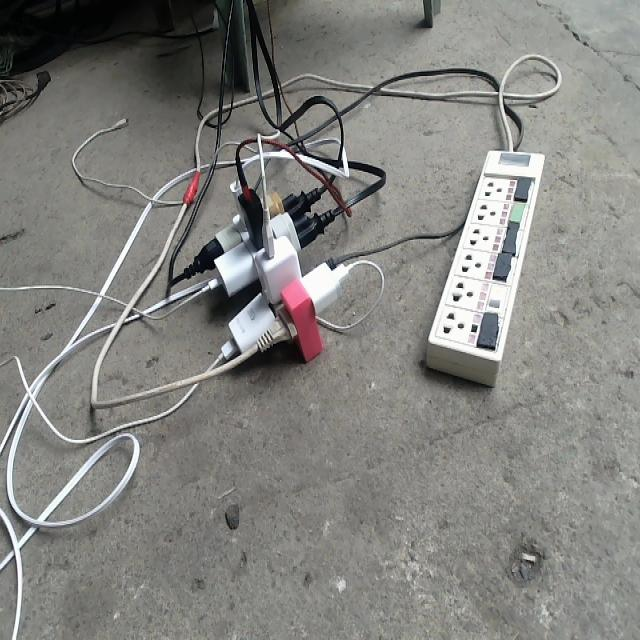-: (180, 151, 345, 369)
